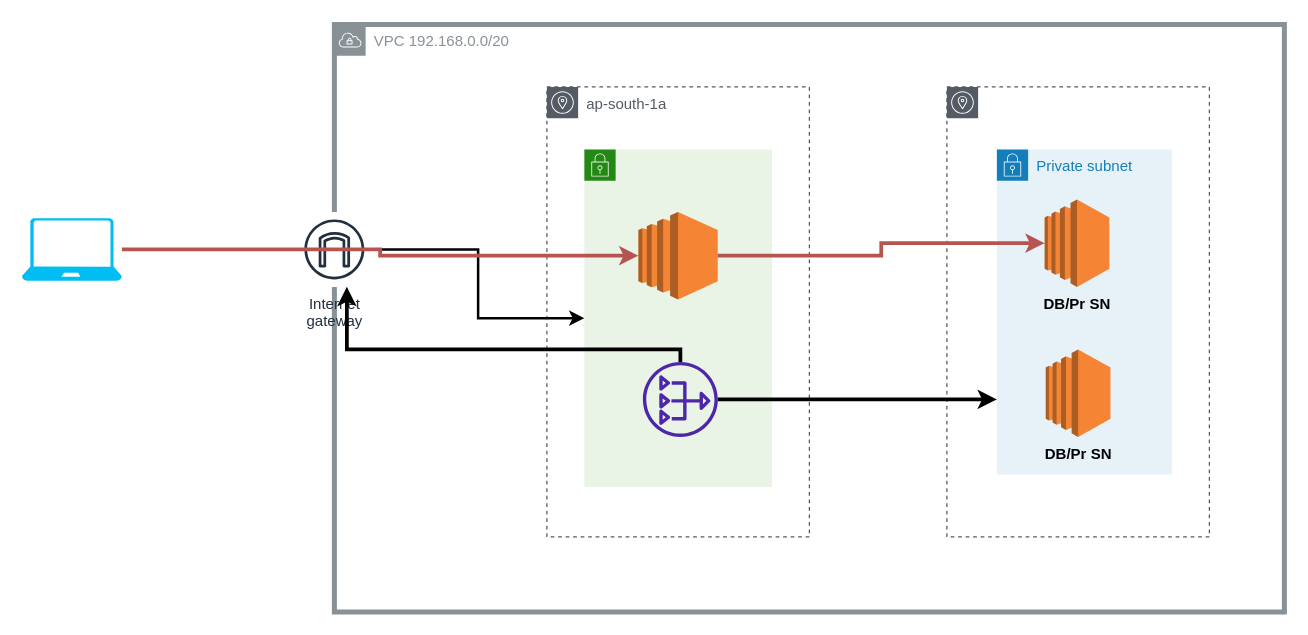
This 1308x635 diagram has some shape labels left out. Here are the shapes that lost their labels. From the top down, the box of each, then its label:
(635, 209, 720, 301): JUMP / BH
(583, 148, 772, 487): Public subnet
(946, 86, 1209, 537): ap-south-1b
